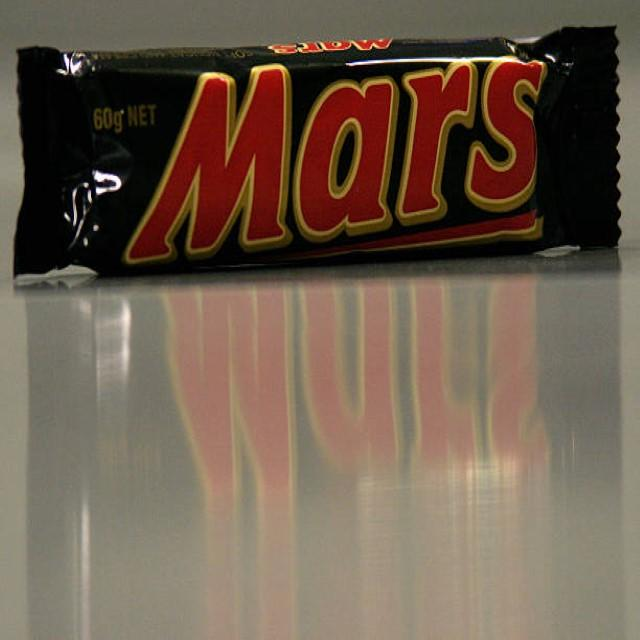mars_chocolate: (48, 45, 602, 252)
